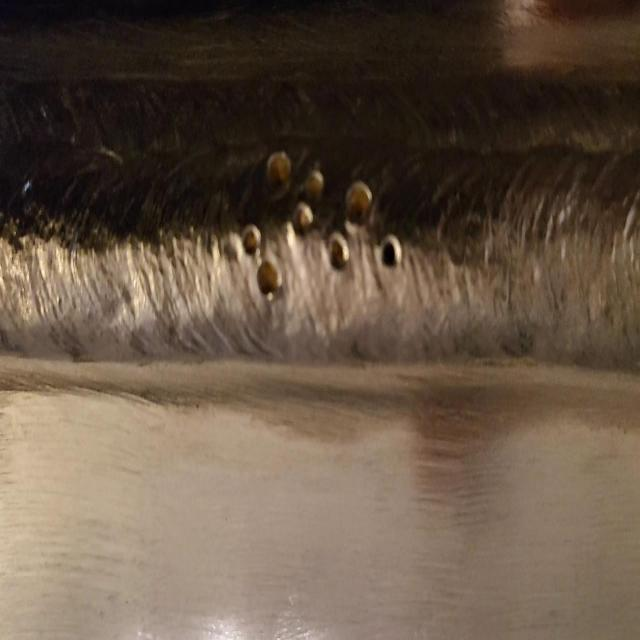Welding Line: (2, 78, 640, 338)
porosity: (237, 149, 403, 301)
